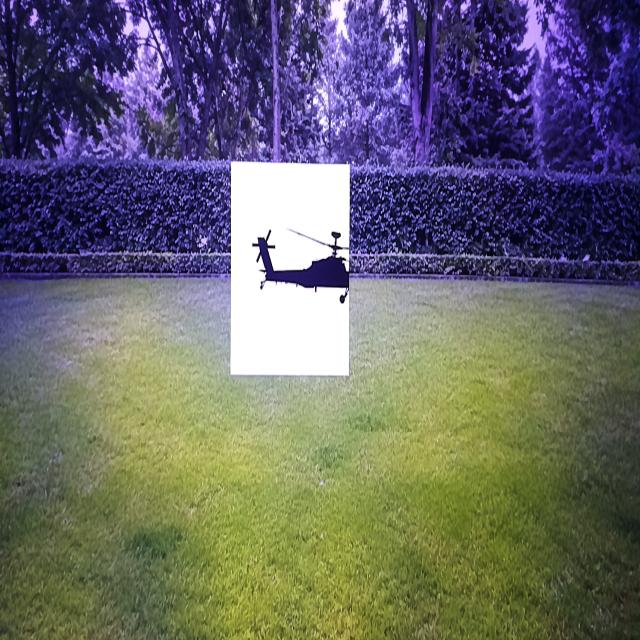Apache friendly: (253, 230, 348, 302)
